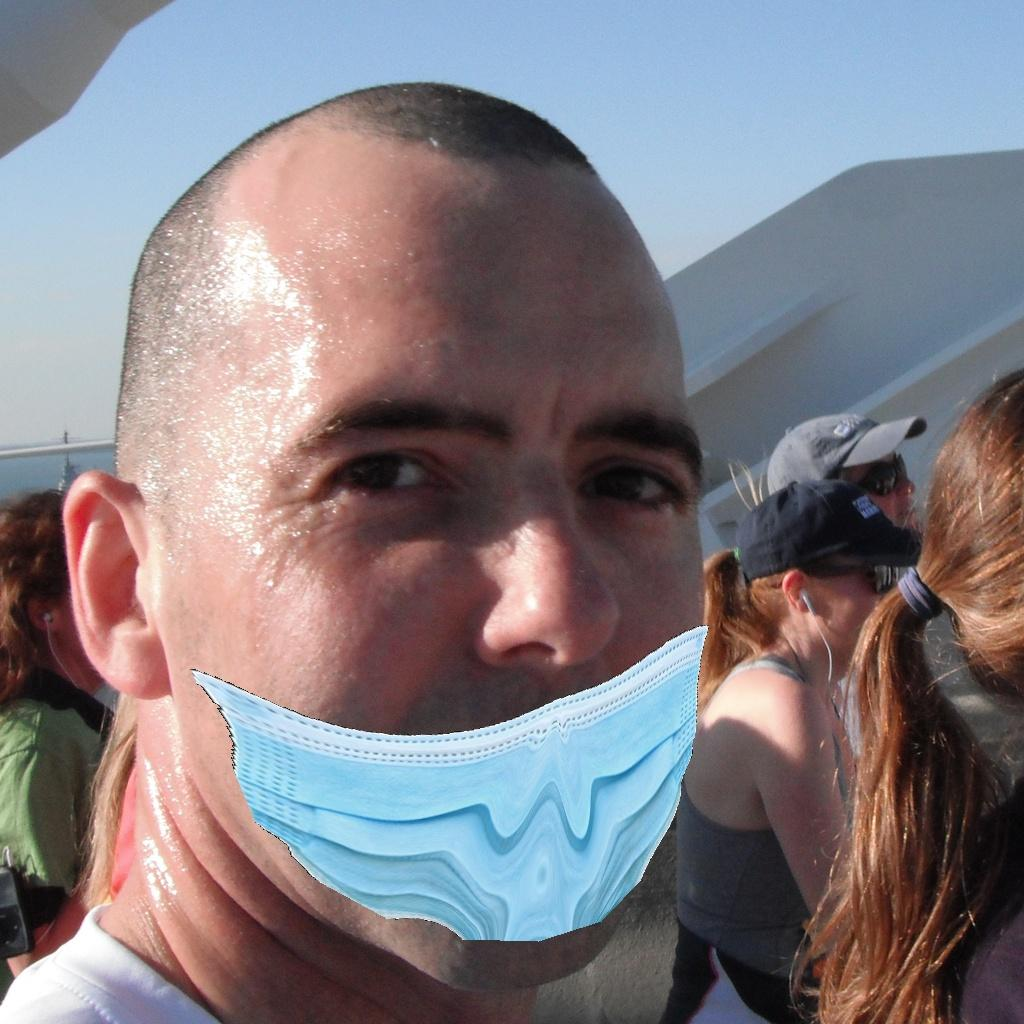Máscara Incorreta: (210, 329, 713, 949)
Sem Máscara: (841, 438, 928, 537)
